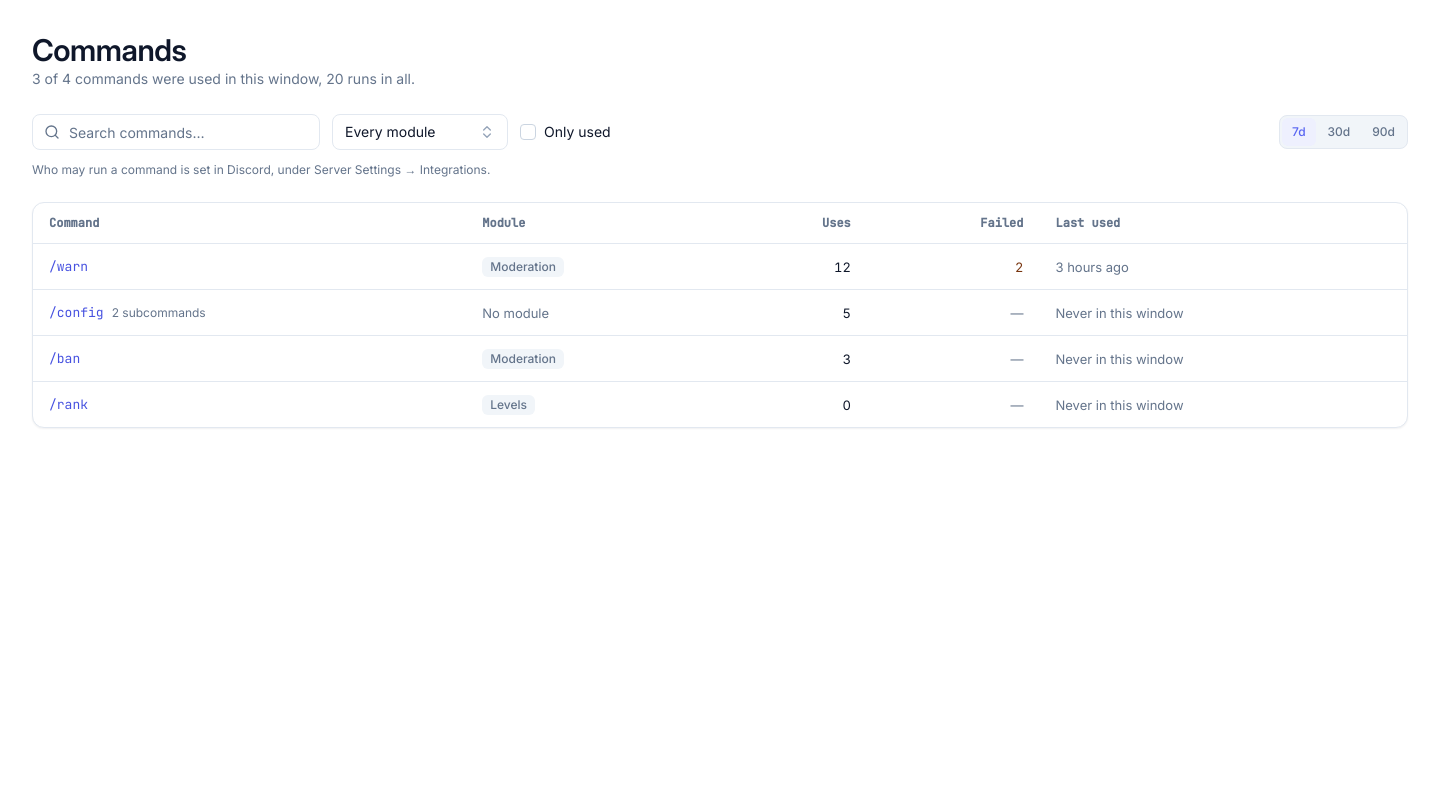
Test case: CommandsScreen › opens the drawer on a command and breaks the uses down by subcommand
Click the button "/config".
click(76, 313)  # box left=49, top=303, right=104, bottom=323
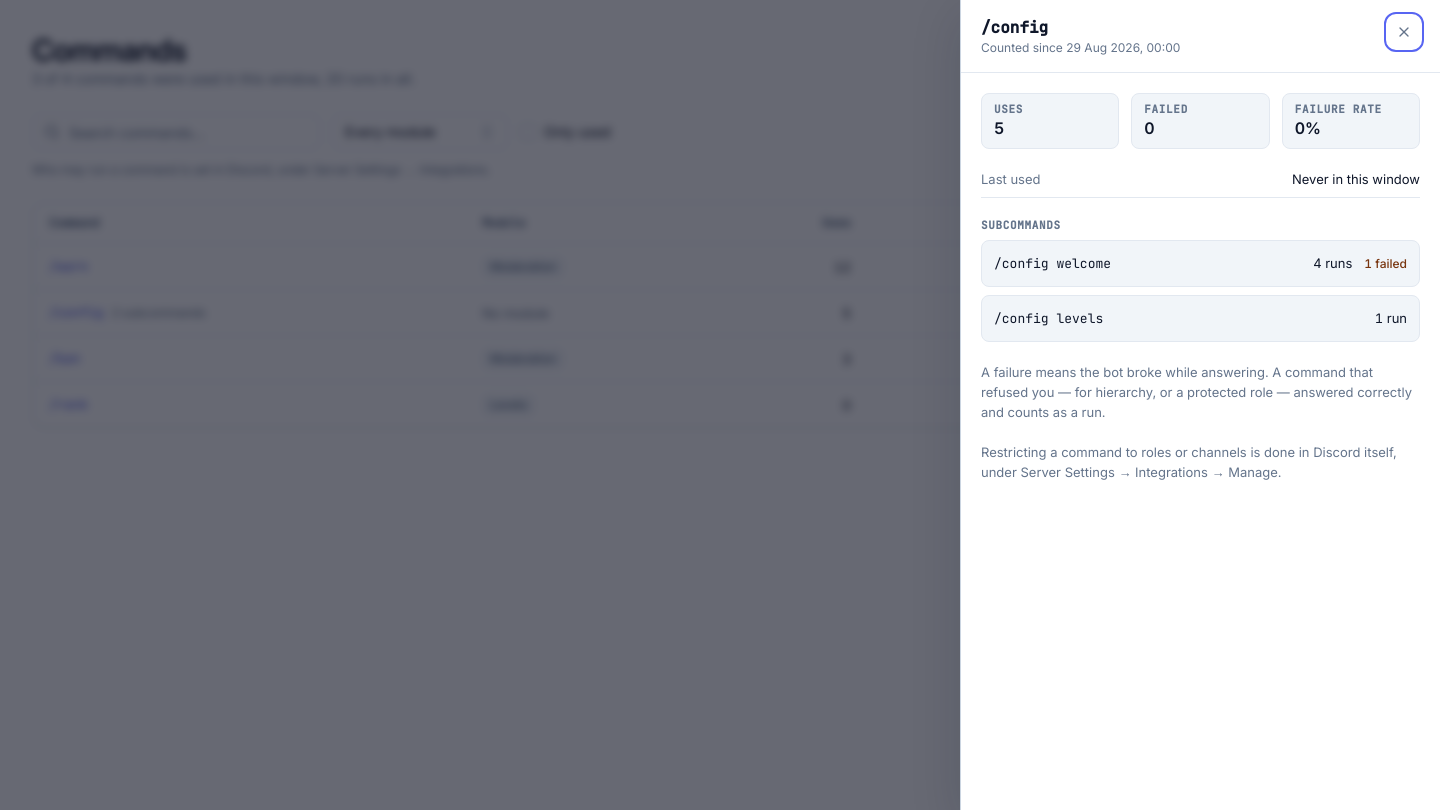
Result: the text "/config welcome" is shown at left=994, top=255, right=1111, bottom=272
Result: the text "/config levels" is shown at left=994, top=310, right=1103, bottom=327
